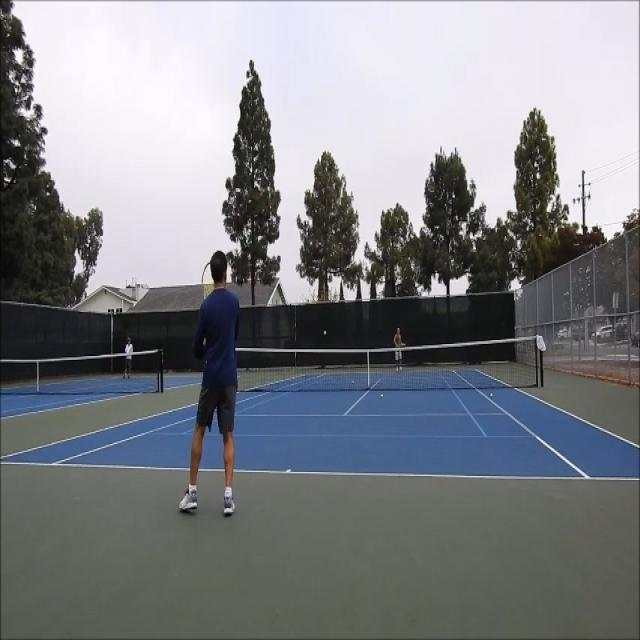court: (0, 370, 640, 480)
net: (215, 332, 548, 394)
player: (178, 251, 241, 518)
